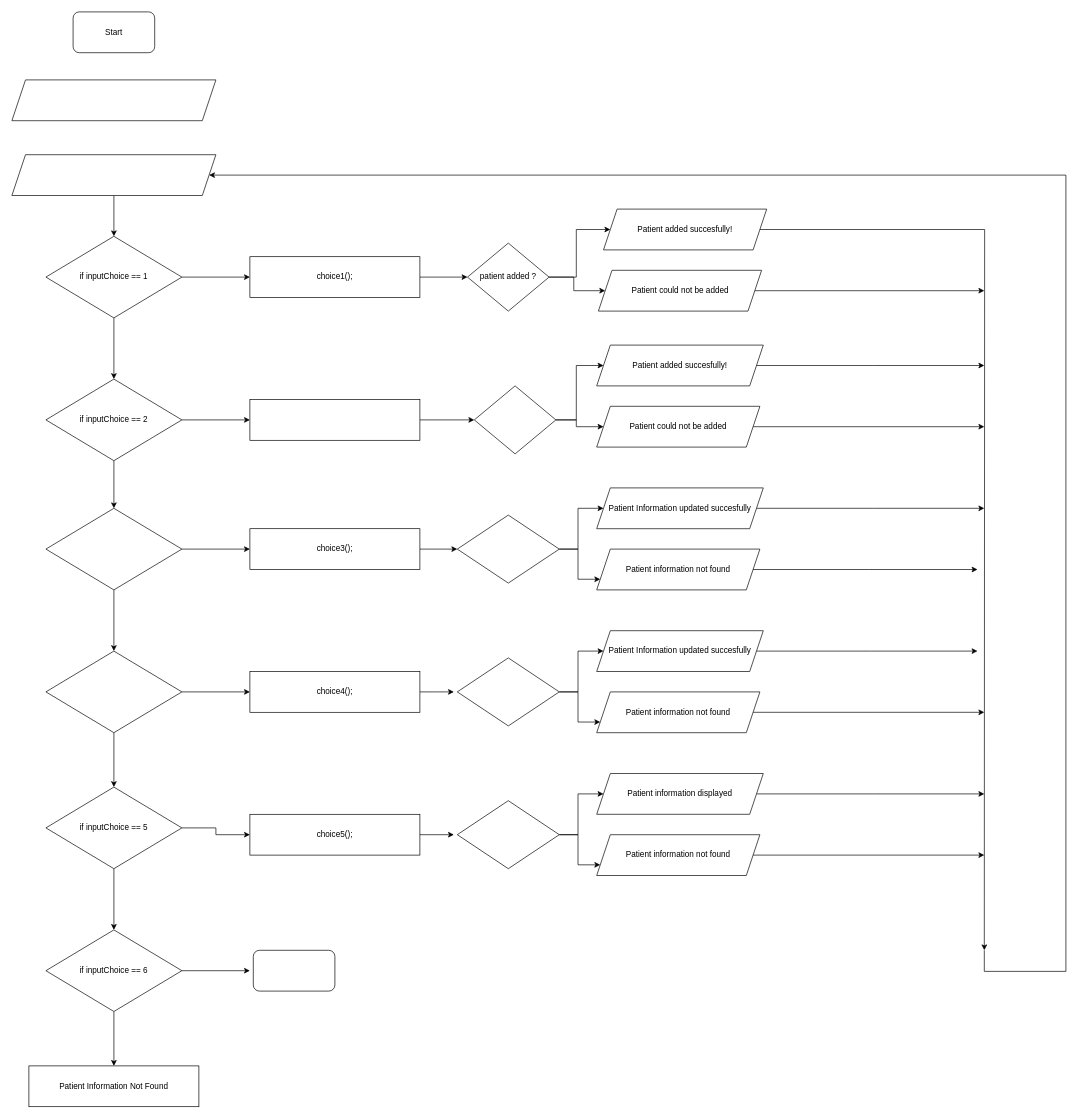
The diagram is 1083 pixels wide and 1119 high, and some of its shapes have lost their labels. Here are the shapes that lost their labels. From the top down, the centre of each, then its label:
the point at 113,100: Welcomes user
the point at 113,175: User enters input (1-6)
the point at 334,419: choice2();'
the point at 515,419: patient removed?
the point at 113,549: if inputChoice == 3
the point at 508,548: information viewed?
the point at 113,691: if inputChoice == 4
the point at 508,691: information updated?
the point at 508,834: patient found?
the point at 294,970: End
